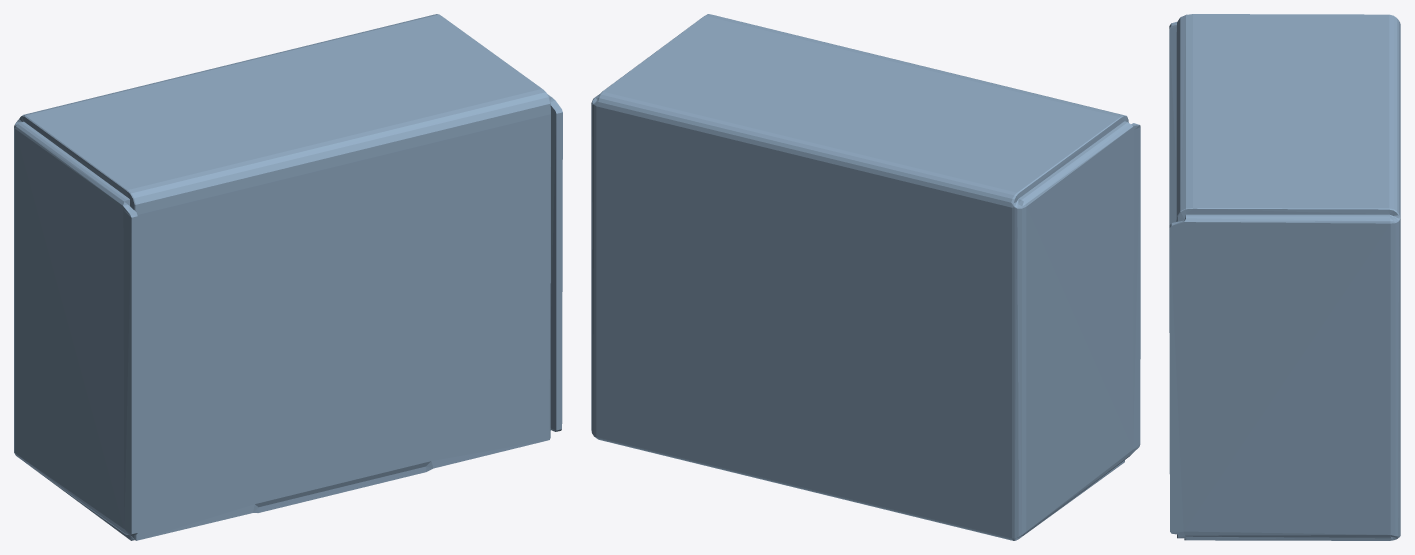
File: box_cardboard_d03.glb
3 views of the same model, side by side, from view 1: azimuth 30°, elevation 25°; view 2: azimuth 150°, elevation 25°; view 3: azimuth 270°, elevation 25° (orthographic). The views are drawn at different scales.
Visible parts, largest first — view 1: geometry_0; view 2: geometry_0; view 3: geometry_0.
Boxes of the visible parts, box(x1,y1,x2,y2) form: geometry_0: box(14, 14, 562, 540); geometry_0: box(591, 14, 1140, 540); geometry_0: box(1169, 14, 1400, 540).
Bounding box in the file's own units: 0.48 × 0.368 × 0.2312.
